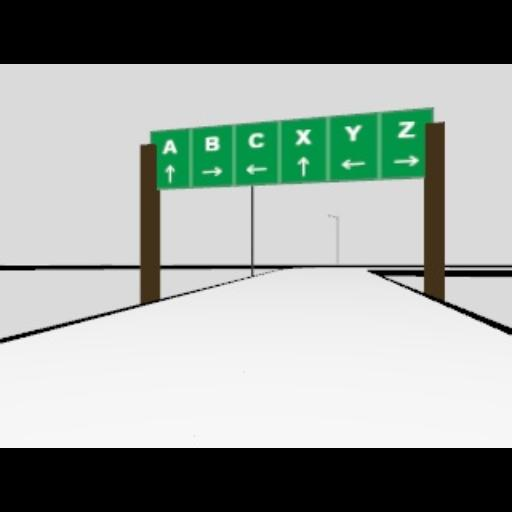A: (162, 137, 178, 155)
B: (204, 134, 222, 152)
C: (248, 131, 266, 149)
Left: (340, 158, 366, 170), (245, 164, 269, 174)
Right: (200, 164, 224, 176), (392, 156, 420, 166)
Straight: (162, 163, 178, 183), (296, 155, 310, 177)
X: (294, 128, 312, 144)
Y: (344, 123, 362, 141)
Z: (396, 120, 416, 138)
